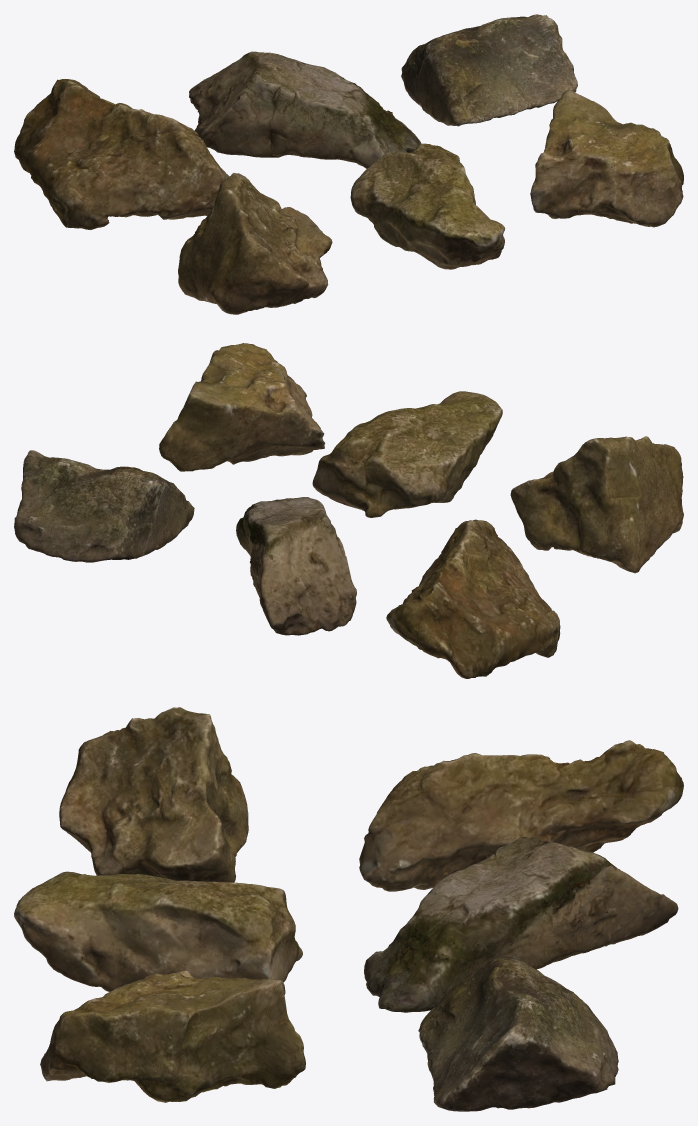
File: rock_moss_set_01.glb
The picture shows the model from 3 angles, top to bottom: view 1: azimuth 30°, elevation 25°; view 2: azimuth 150°, elevation 25°; view 3: azimuth 270°, elevation 25°; orthographic projection. The views are drawn at different scales.
Visible parts, largest first — view 1: rock_moss_set_01_rock01, rock_moss_set_01_rock02, rock_moss_set_01_rock06, rock_moss_set_01_rock04, rock_moss_set_01_rock03, rock_moss_set_01_rock05; view 2: rock_moss_set_01_rock04, rock_moss_set_01_rock01, rock_moss_set_01_rock05, rock_moss_set_01_rock03, rock_moss_set_01_rock06, rock_moss_set_01_rock02; view 3: rock_moss_set_01_rock01, rock_moss_set_01_rock02, rock_moss_set_01_rock05, rock_moss_set_01_rock04, rock_moss_set_01_rock06, rock_moss_set_01_rock03.
Part boxes in pixels (x1,y1,x2,y2): rock_moss_set_01_rock01: (14,79,229,229); rock_moss_set_01_rock02: (189,51,421,168); rock_moss_set_01_rock06: (530,89,683,227); rock_moss_set_01_rock04: (178,173,332,314); rock_moss_set_01_rock03: (401,14,577,126); rock_moss_set_01_rock05: (350,143,505,269); rock_moss_set_01_rock04: (510,436,683,573); rock_moss_set_01_rock01: (386,519,560,678); rock_moss_set_01_rock05: (312,391,502,517); rock_moss_set_01_rock03: (14,450,194,562); rock_moss_set_01_rock06: (159,343,325,471); rock_moss_set_01_rock02: (236,497,356,635); rock_moss_set_01_rock01: (359,740,683,891); rock_moss_set_01_rock02: (364,836,678,1012); rock_moss_set_01_rock05: (14,871,302,991); rock_moss_set_01_rock04: (59,707,248,882); rock_moss_set_01_rock06: (40,970,305,1102); rock_moss_set_01_rock03: (418,956,618,1111).
Bounding box in the file's own units: 8 × 1.77 × 6.95.
Materials: 1 (1 with a texture image).
